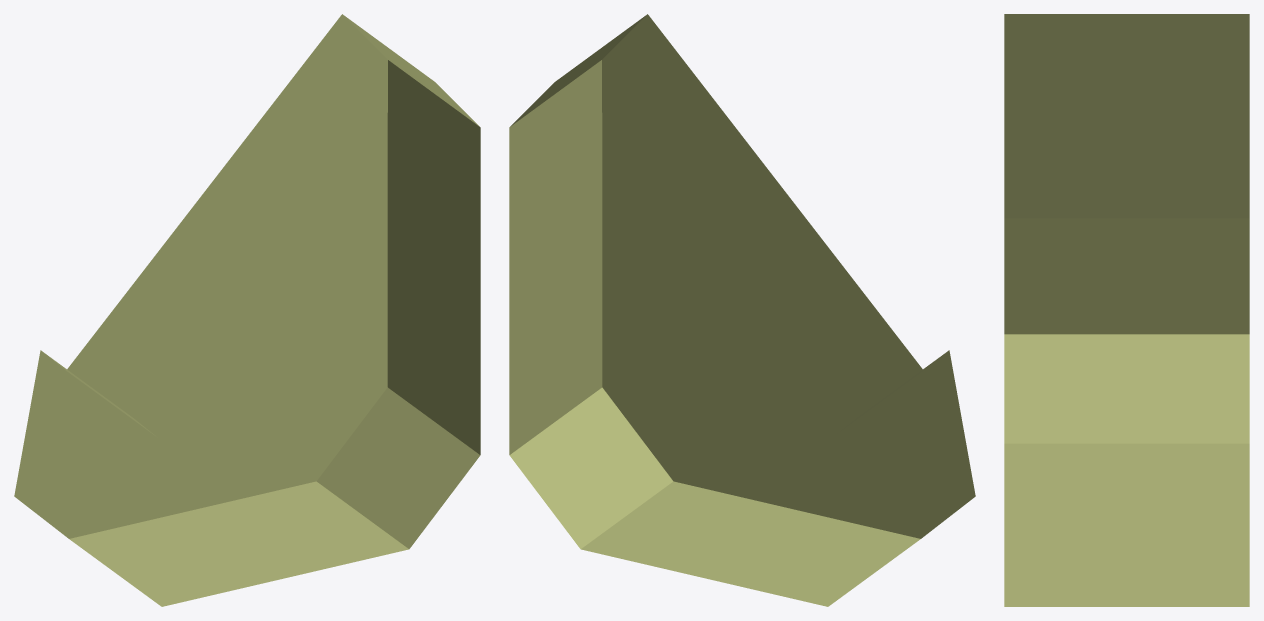
3 renders of one model, left to right at view 1: azimuth 30°, elevation 25°; view 2: azimuth 150°, elevation 25°; view 3: azimuth 270°, elevation 25°, orthographic. The views are drawn at different scales.
Parts seen in each view (by area): view 1: 0_3_2_2_3_0_1_3_1; view 2: 0_3_2_2_3_0_1_3_1; view 3: 0_3_2_2_3_0_1_3_1.
Boxes of the visible parts, x1,y1,x2,y2 form: 0_3_2_2_3_0_1_3_1: (14,14,480,606); 0_3_2_2_3_0_1_3_1: (509,14,975,606); 0_3_2_2_3_0_1_3_1: (1004,14,1249,606).
Size of the model in its own units: 20.9 by 24.65 by 9.
